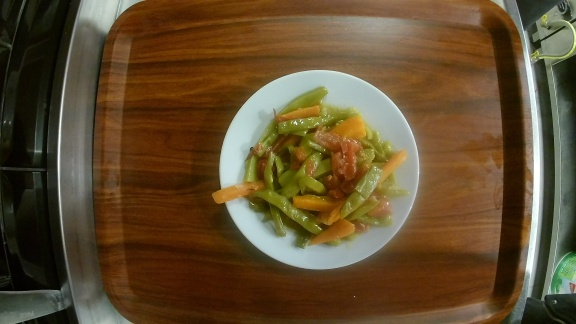tazefasulye: (215, 69, 420, 271)
